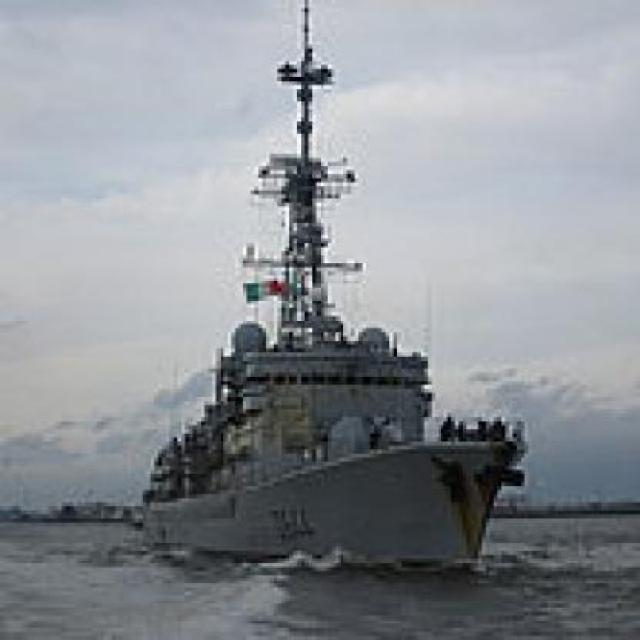warship2: (144, 13, 533, 589)
